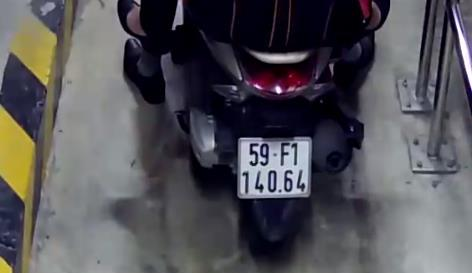lisence: (237, 135, 312, 198)
